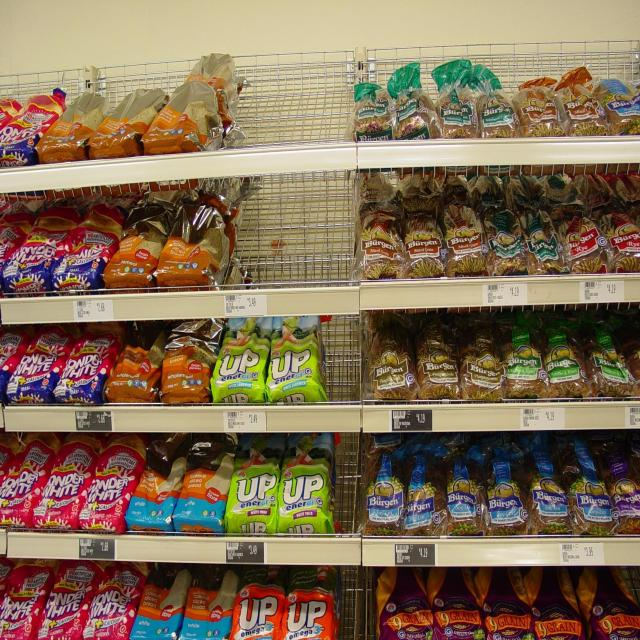void: (255, 173, 357, 288), (252, 65, 346, 148)
